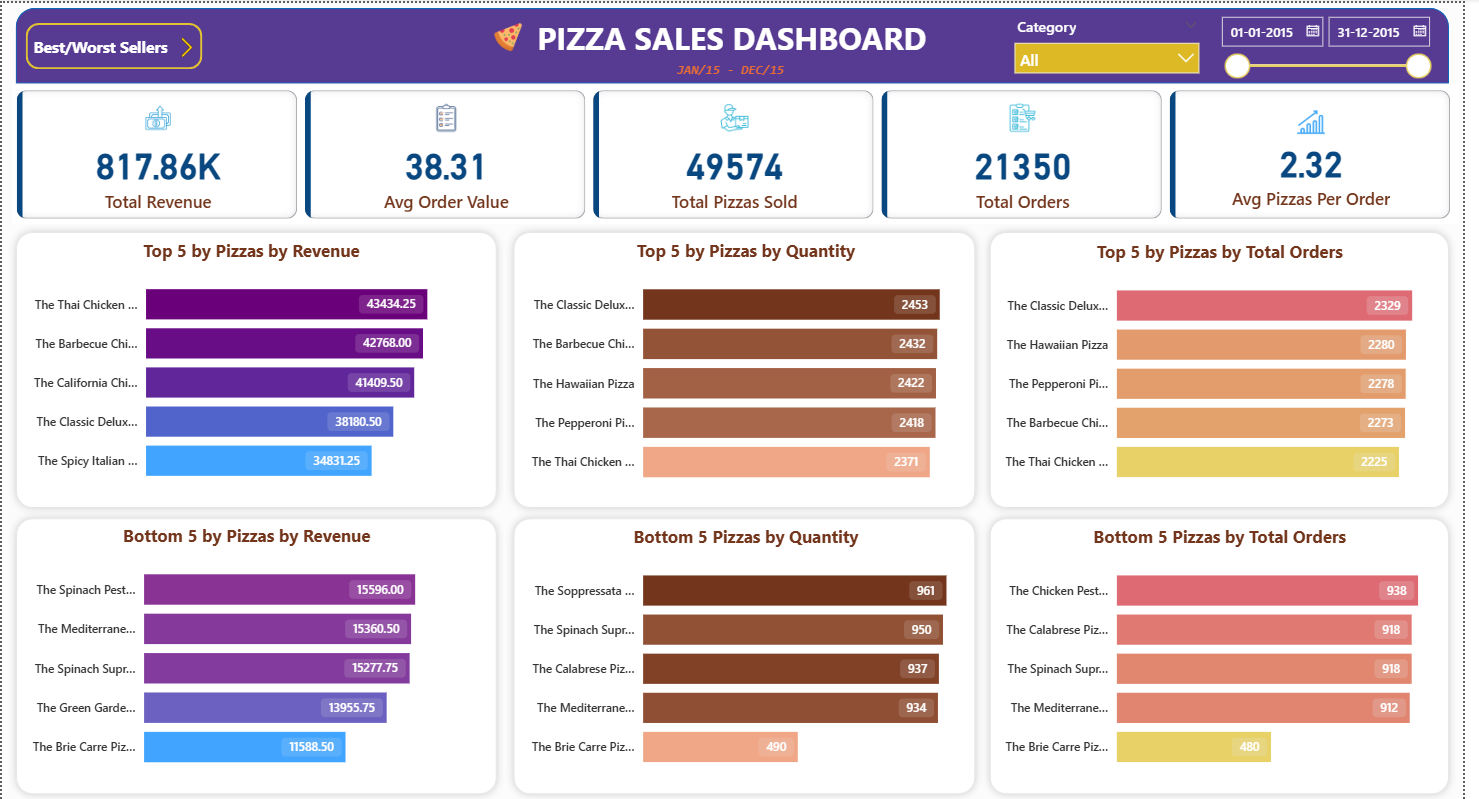

The dashboard page shown, as its layout file describes it:
{"tool":"powerbi","page":{"name":"Best/Worst Sellers","canvas":[1500,820],"ordinal":1},"visuals":[{"type":"cardVisual","fields":{"Data":["pizza_sales.Total Revenue","pizza_sales.Avg Order Value","pizza_sales.Total Pizzas Sold","pizza_sales.Total Orders","pizza_sales.Avg Pizzas Per Order"]},"box":[9.7,85,1486,142.1],"z":0},{"type":"shape","box":[14.1,5.6,1471.8,77.5],"z":1000},{"type":"textbox","box":[526.8,8.5,446.5,53.5],"z":2000},{"type":"textbox","box":[650,54.3,197.1,50],"z":3000},{"type":"image","box":[485.9,15.5,66.2,39.4],"z":4000},{"type":"shape","box":[7,227,509.7,299.4],"z":5000},{"type":"shape","box":[1006.9,227,487.4,299.4],"z":6000},{"type":"shape","box":[516.7,227,490.2,299.4],"z":7000},{"type":"shape","box":[7,520.9,509.7,299.4],"z":8000},{"type":"shape","box":[516.7,520.9,490.2,299.4],"z":9000},{"type":"shape","box":[1006.9,520.9,487.4,299.4],"z":10000},{"type":"barChart","title":"Top 5 by Pizzas by Revenue","fields":{"Category":["pizza_sales.pizza_name"],"Y":["pizza_sales.Total Revenue"]},"box":[14.5,242.8,484,265.3],"z":11000},{"type":"barChart","title":"Bottom 5 Pizzas by Quantity","fields":{"Category":["pizza_sales.pizza_name"],"Y":["Sum(pizza_sales.quantity)"]},"box":[527.4,537.1,472.8,265.3],"z":12000},{"type":"barChart","title":"Top 5 by Pizzas by Quantity","fields":{"Category":["pizza_sales.pizza_name"],"Y":["Sum(pizza_sales.quantity)"]},"box":[527.4,242.8,472.8,266.9],"z":13000},{"type":"barChart","title":"Bottom 5 by Pizzas by Revenue","fields":{"Category":["pizza_sales.pizza_name"],"Y":["pizza_sales.Total Revenue"]},"box":[14.5,535.5,474.4,266.9],"z":14000},{"type":"barChart","title":"Top 5 by Pizzas by Total Orders","fields":{"Category":["pizza_sales.pizza_name"],"Y":["pizza_sales.Total Orders"]},"box":[1014.7,244.4,472.8,265.3],"z":15000},{"type":"barChart","title":"Bottom 5 Pizzas by Total Orders","fields":{"Category":["pizza_sales.pizza_name"],"Y":["pizza_sales.Total Orders"]},"box":[1014.7,537.1,472.8,265.3],"z":16000},{"type":"actionButton","box":[24.4,20.6,181.2,47.5],"z":17000},{"type":"image","box":[162.5,31.2,54.4,30],"z":18000},{"type":"slicer","fields":{"Values":["pizza_sales.order_date"]},"box":[1240,4.3,235.7,80],"z":19000},{"type":"slicer","fields":{"Values":["pizza_sales.pizza_category"]},"box":[1030,8.6,210,74.3],"z":20000}]}

Visuals, with their boxes in screenshot pixels (x1, y1, x2, y2), scaled from the page's 1500x820 canvas onto the 1479x799 screenshot:
cardVisual - pizza_sales.Total Revenue x pizza_sales.Avg Order Value: crop(10, 83, 1475, 221)
shape: crop(14, 5, 1465, 81)
textbox: crop(519, 8, 960, 60)
textbox: crop(641, 53, 835, 102)
image: crop(479, 15, 544, 53)
shape: crop(7, 221, 509, 513)
shape: crop(993, 221, 1473, 513)
shape: crop(509, 221, 993, 513)
shape: crop(7, 508, 509, 798)
shape: crop(509, 508, 993, 798)
shape: crop(993, 508, 1473, 798)
"Top 5 by Pizzas by Revenue" barChart: crop(14, 237, 492, 495)
"Bottom 5 Pizzas by Quantity" barChart: crop(520, 523, 986, 782)
"Top 5 by Pizzas by Quantity" barChart: crop(520, 237, 986, 497)
"Bottom 5 by Pizzas by Revenue" barChart: crop(14, 522, 482, 782)
"Top 5 by Pizzas by Total Orders" barChart: crop(1000, 238, 1467, 497)
"Bottom 5 Pizzas by Total Orders" barChart: crop(1000, 523, 1467, 782)
actionButton: crop(24, 20, 203, 66)
image: crop(160, 30, 214, 60)
slicer - pizza_sales.order_date: crop(1223, 4, 1455, 82)
slicer - pizza_sales.pizza_category: crop(1016, 8, 1223, 81)
